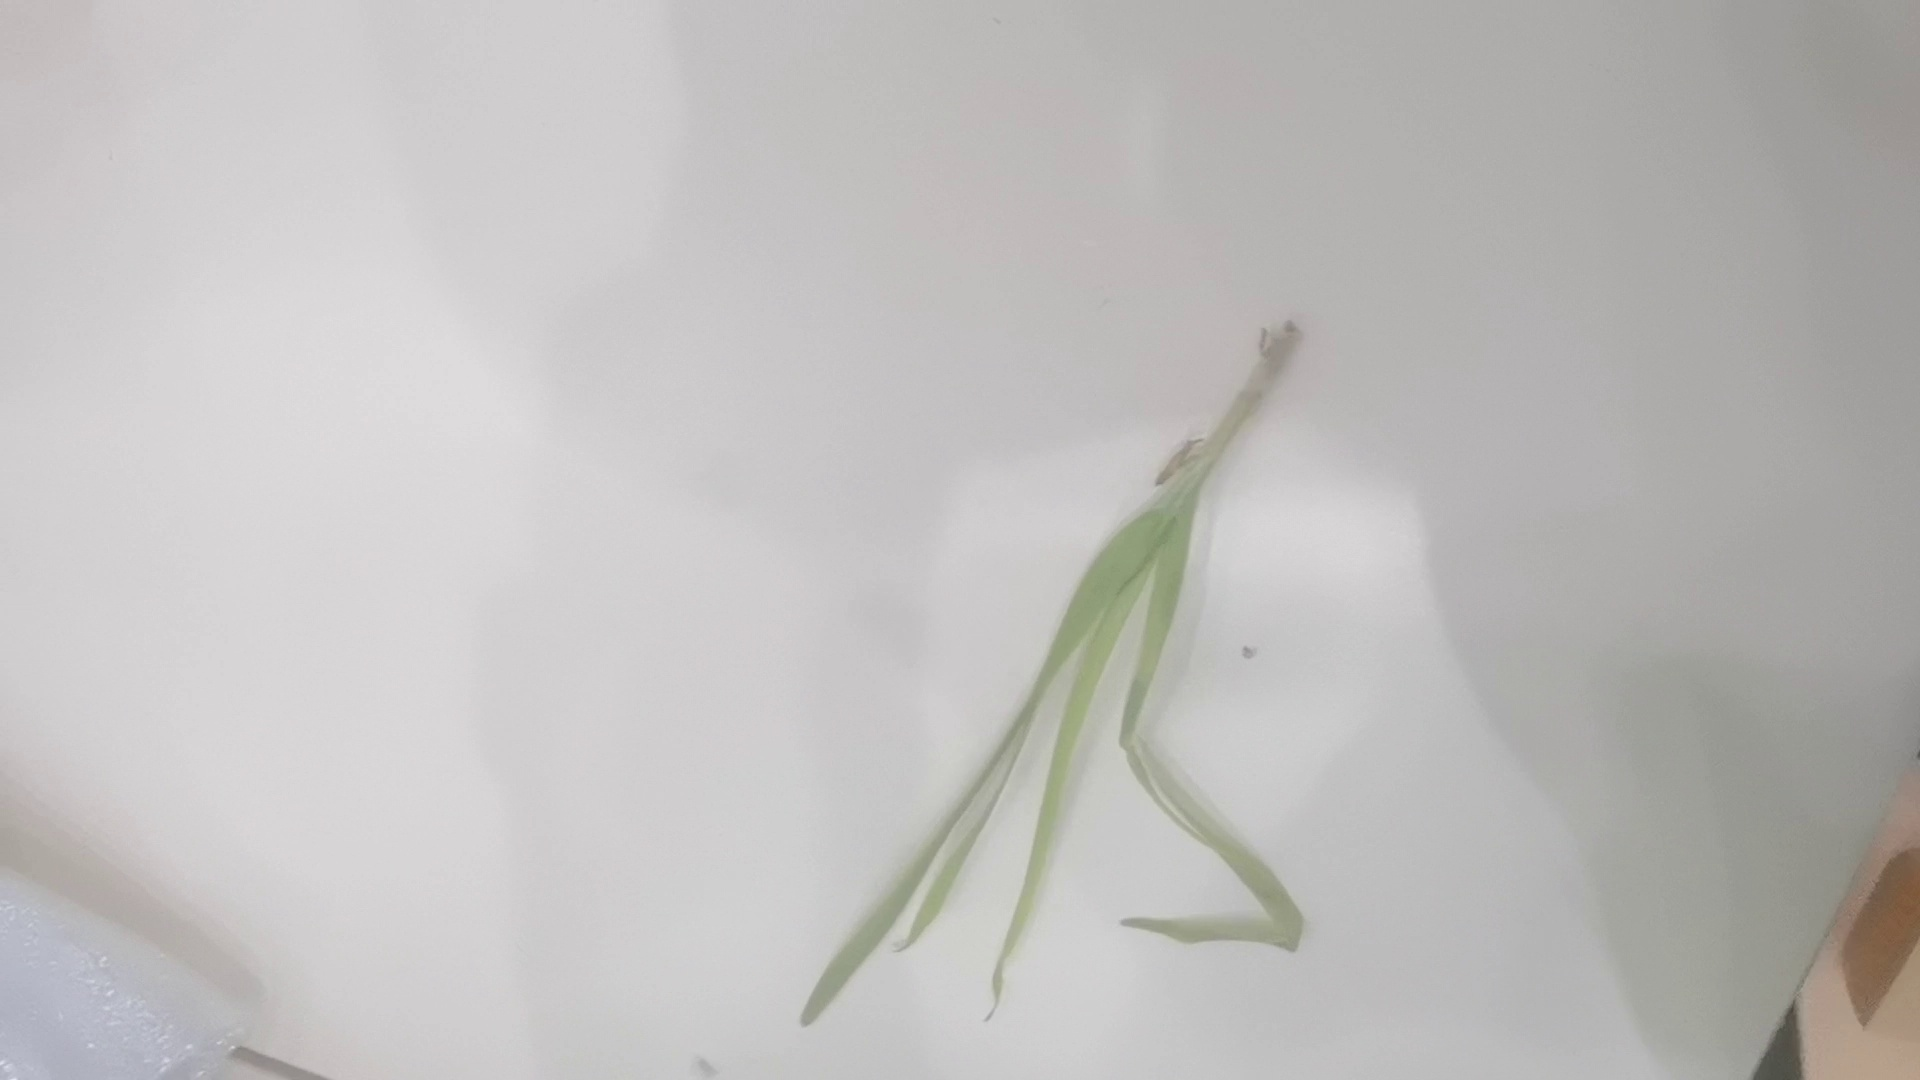chives: (765, 324, 1324, 1009)
